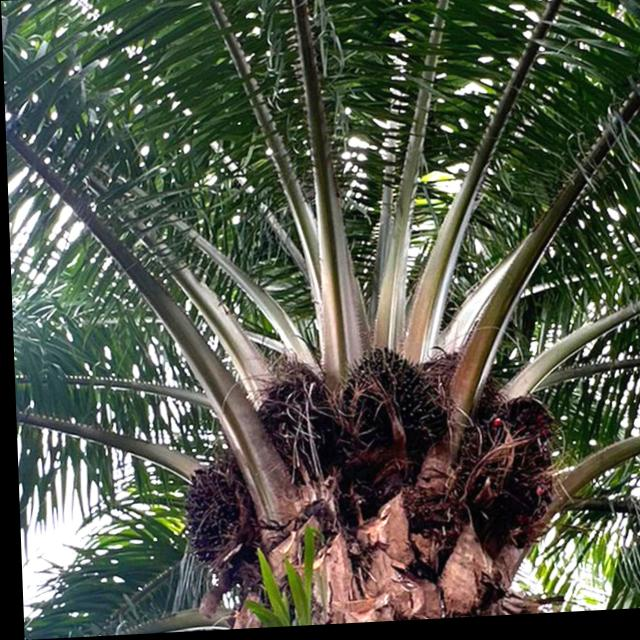unripe: (327, 343, 448, 466)
